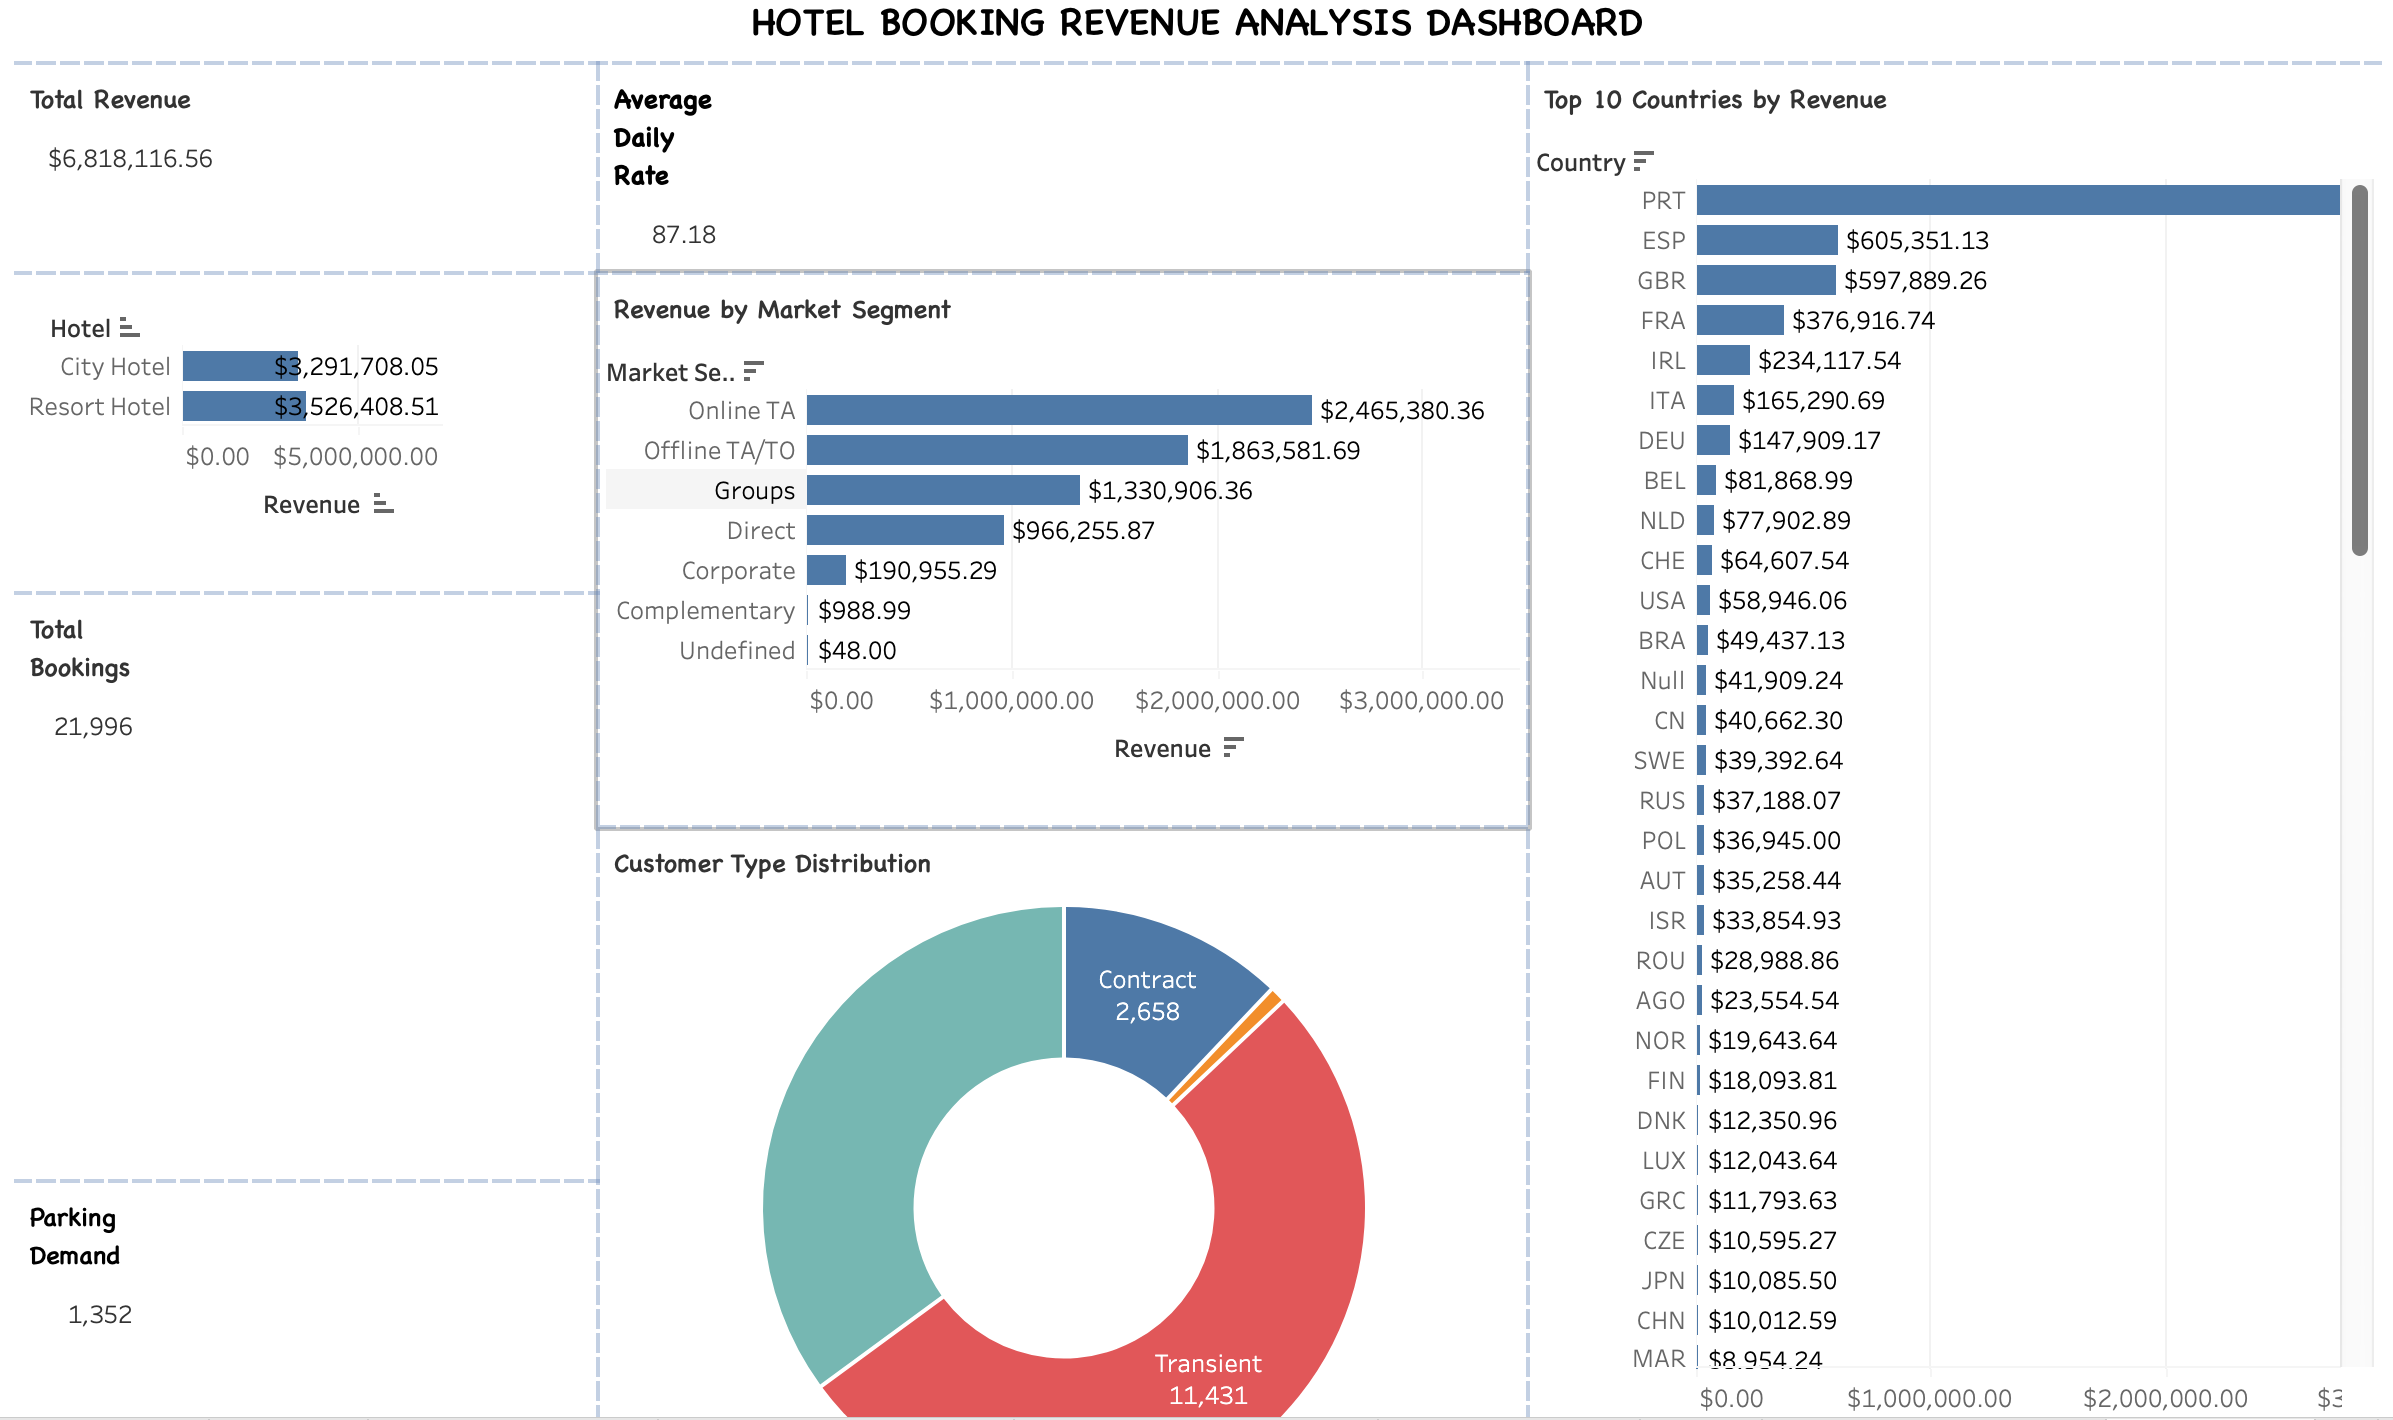

The page's visual inventory and layout, read from the dashboard file:
{"tool":"tableau","page":{"name":"Dashboard 1","canvas":[1200,800],"ordinal":0},"visuals":[{"type":"text","box":[8,8,1184,56]},{"type":"worksheet","title":"Total Revenue","mark":"Automatic","box":[8,64,292,105]},{"type":"worksheet","title":"ADR KPI","mark":"Automatic","box":[300,64,465,105]},{"type":"worksheet","title":"Top 10 Countries by Revenue","mark":"Automatic","rows":["country"],"cols":["Calculation_2583011229417475"],"box":[765,64,427,728]},{"type":"worksheet","title":"Revenue by Hotel Type","mark":"Automatic","rows":["hotel"],"cols":["Calculation_2583011229417475"],"box":[8,169,292,160]},{"type":"worksheet","title":"Revenue by Market Segment","mark":"Automatic","rows":["market_segment"],"cols":["Calculation_2583011229417475"],"box":[300,169,465,277]},{"type":"worksheet","title":"Total Bookings","mark":"Automatic","box":[8,329,292,293.5]},{"type":"worksheet","title":"Customer Type Distribution","mark":"VizExtension","box":[300,446,465,346]},{"type":"worksheet","title":"Parking Demand KPI","mark":"Automatic","box":[8,622.5,292,169.5]}]}

Visuals, with their boxes on the page's 1200x800 design canvas (x1, y1, x2, y2). These are canvas units, not pixel positions in the 2393x1420 screenshot, which may show the page scaled, cropped or inside an application window:
text: (8,8,1192,64)
"Total Revenue" worksheet: (8,64,300,169)
"ADR KPI" worksheet: (300,64,765,169)
"Top 10 Countries by Revenue" worksheet: (765,64,1192,792)
"Revenue by Hotel Type" worksheet: (8,169,300,329)
"Revenue by Market Segment" worksheet: (300,169,765,446)
"Total Bookings" worksheet: (8,329,300,622)
"Customer Type Distribution" worksheet (VizExtension marks): (300,446,765,792)
"Parking Demand KPI" worksheet: (8,622,300,792)
